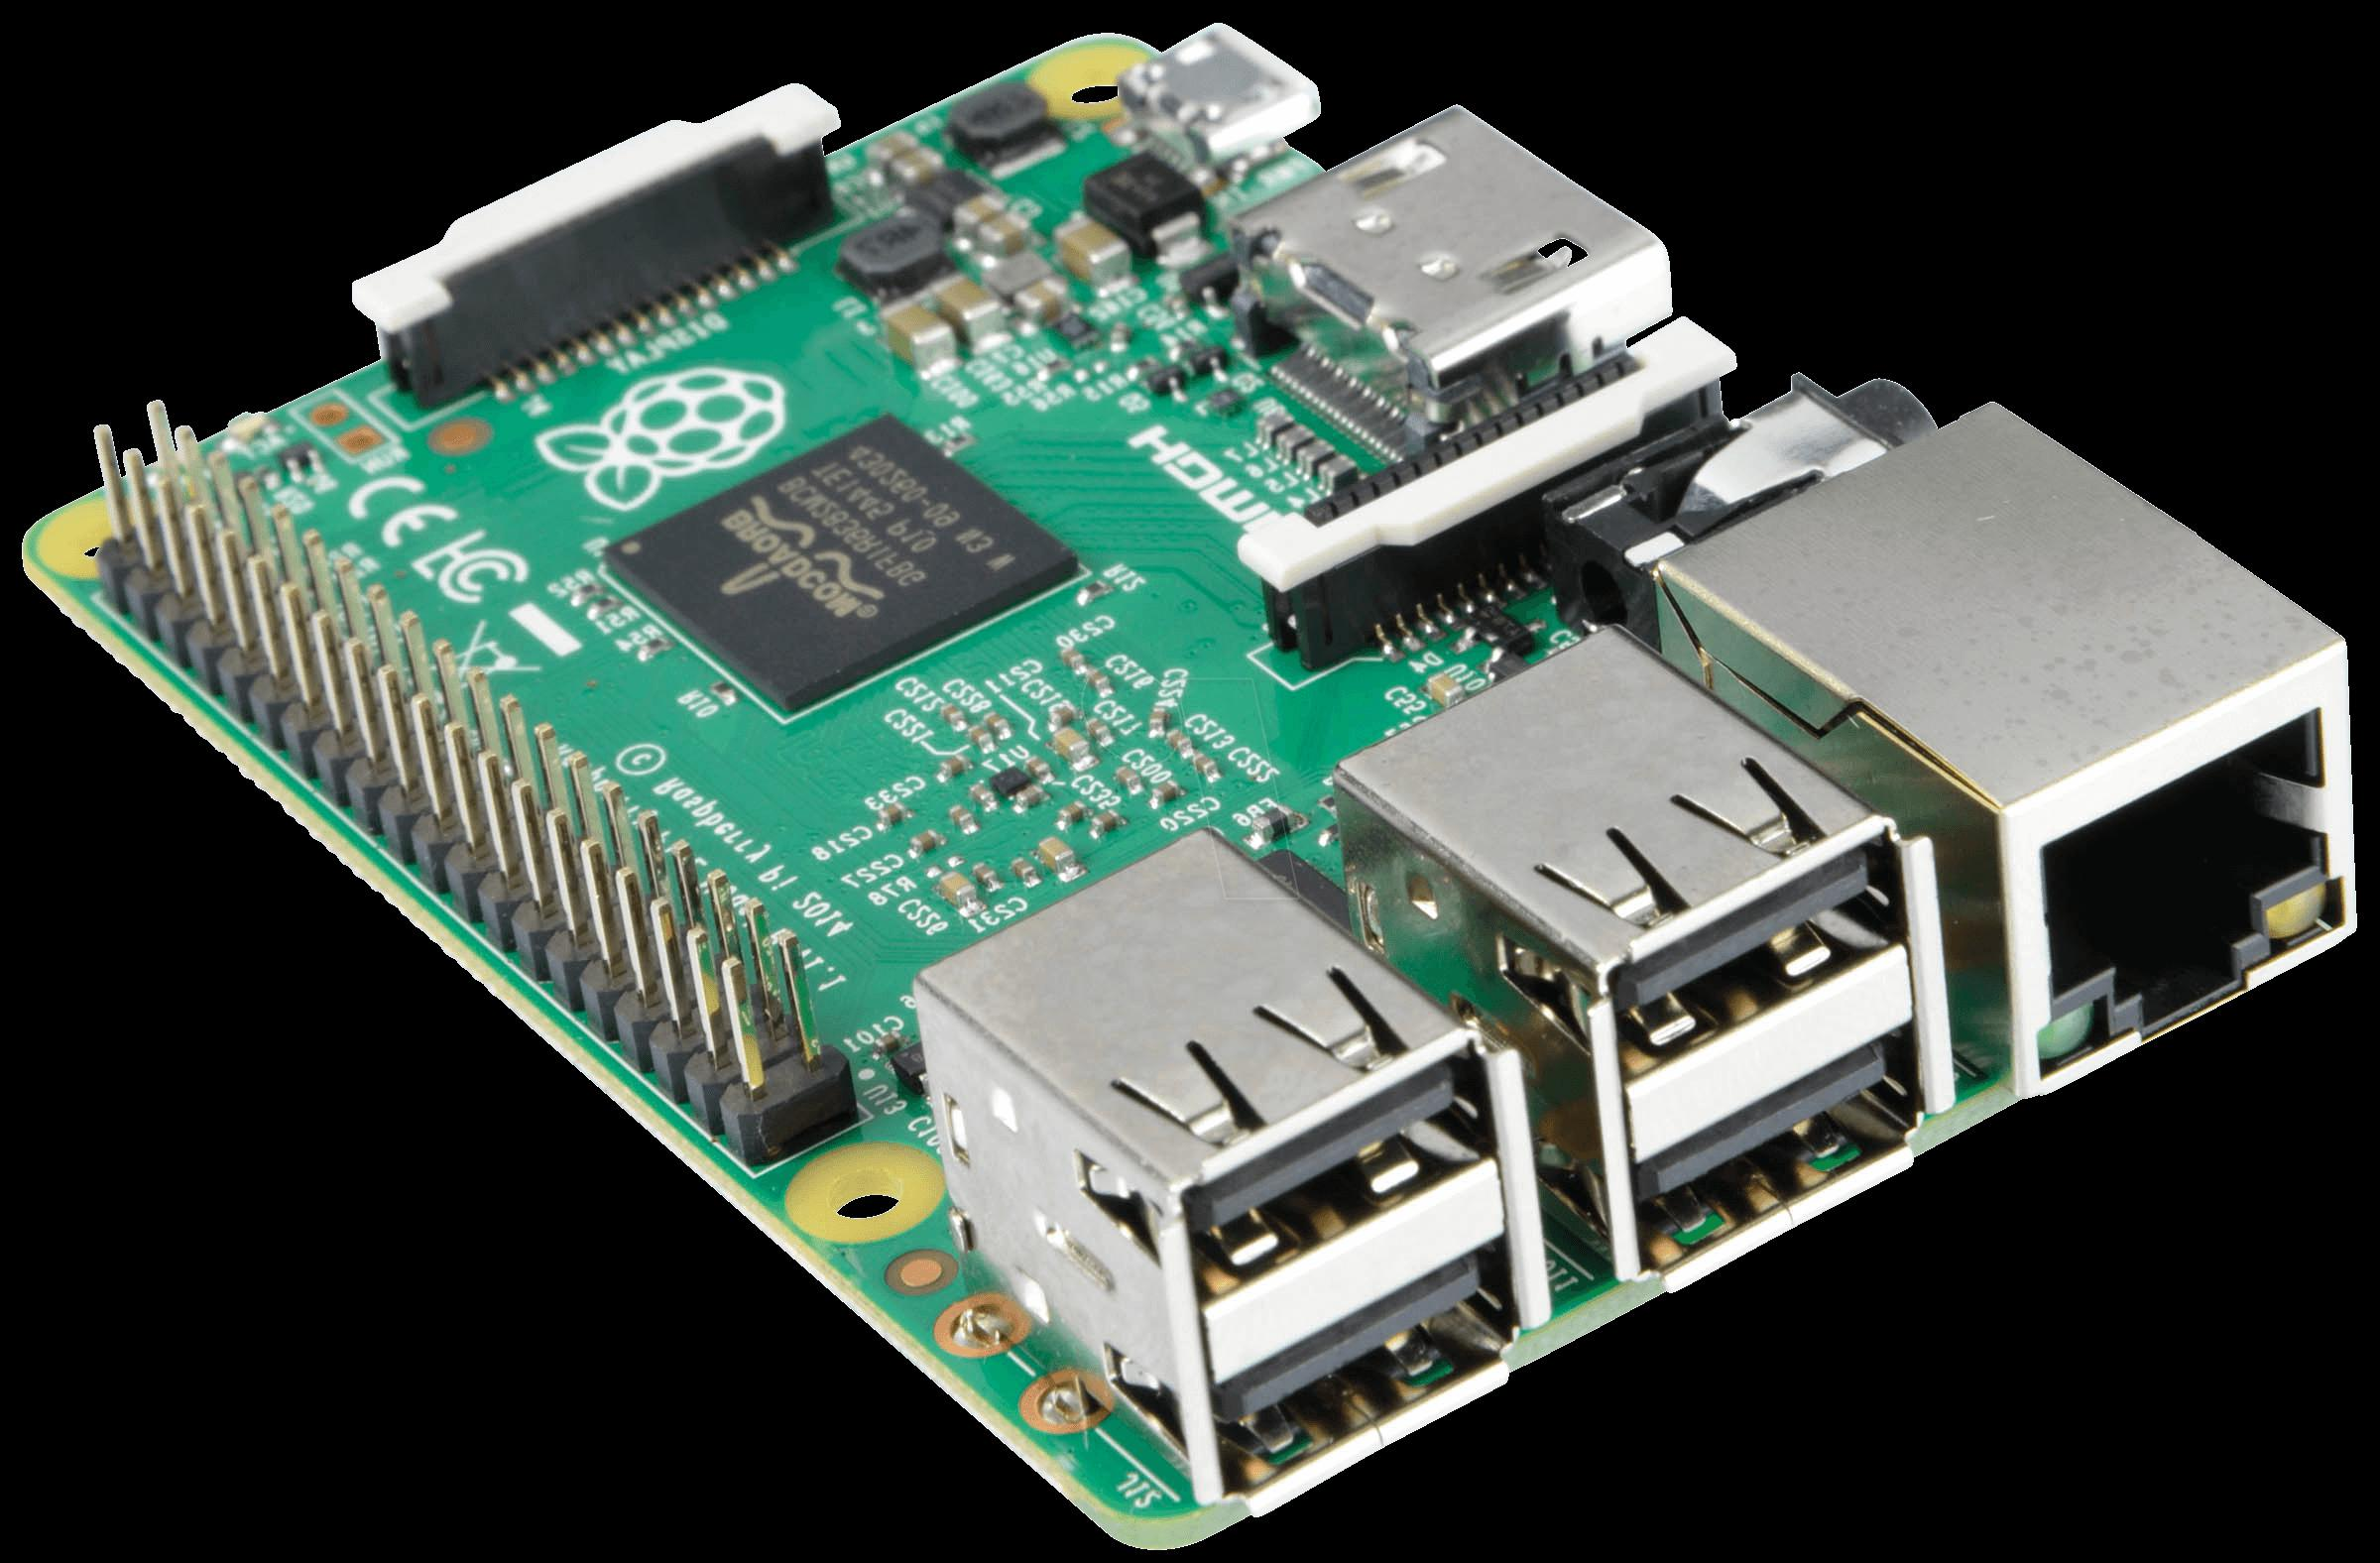bchi: (595, 406, 1071, 698)
ethernet: (1660, 394, 2352, 1087)
gpio: (73, 365, 854, 1162)
usb: (915, 823, 1541, 1502), (1346, 633, 1963, 1282)
